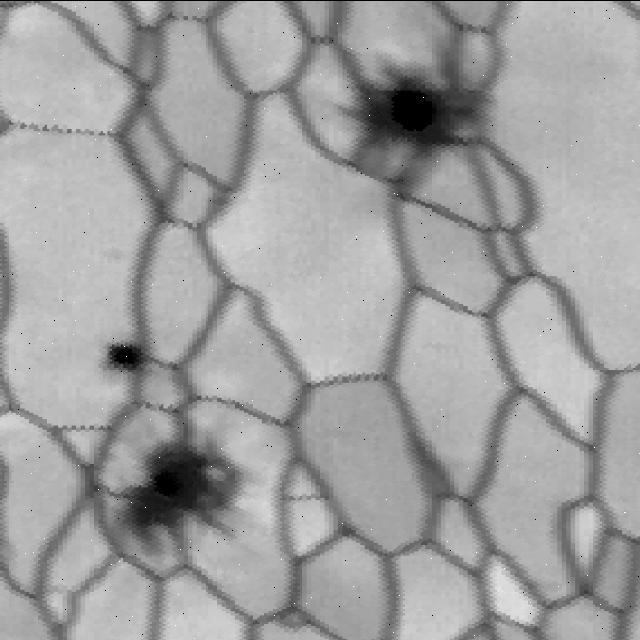good_void: (350, 47, 499, 196), (105, 424, 262, 565), (95, 339, 144, 378)
